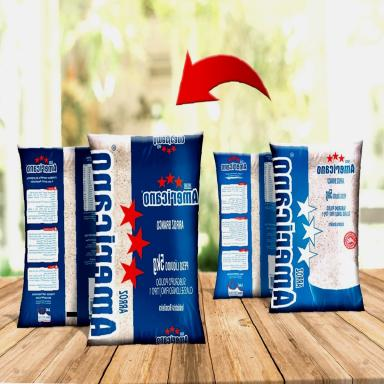rice package: (88, 134, 204, 345), (270, 142, 363, 312), (18, 147, 95, 327), (214, 153, 276, 298)
